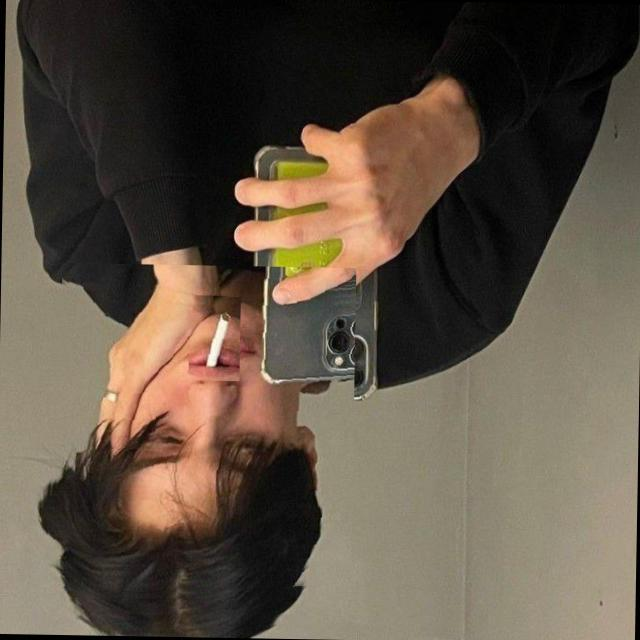cigarette: (187, 296, 240, 382)
